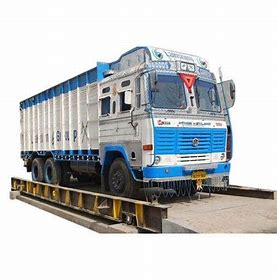Industrial Scale: (7, 177, 275, 236)
